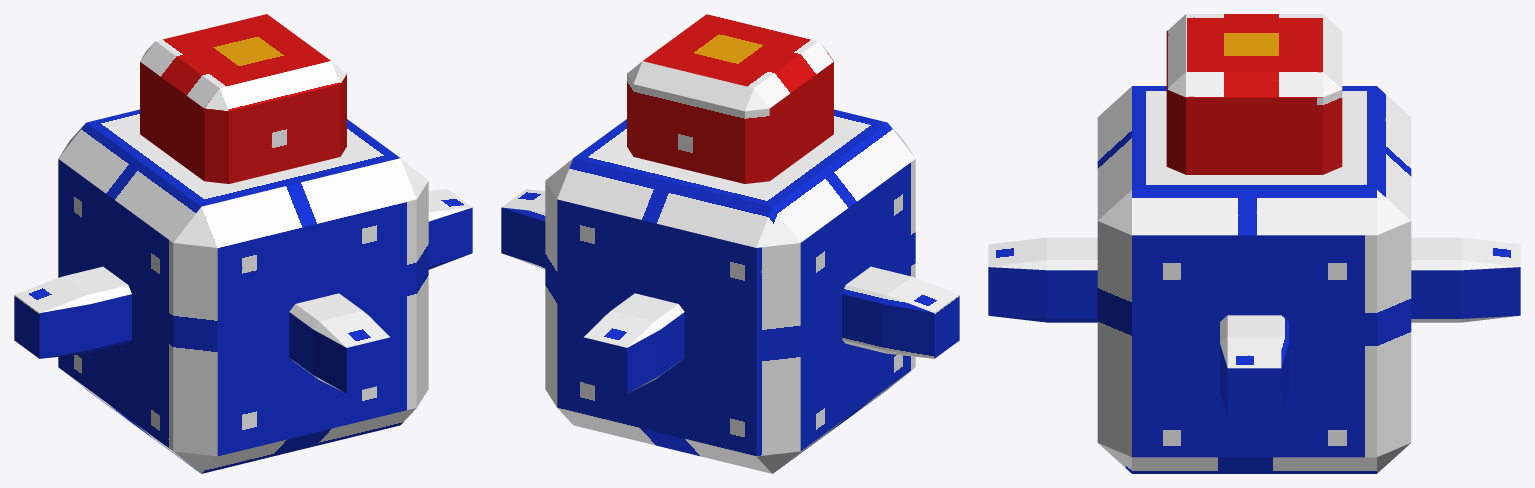
File: pokeball.glb
3 renders of one model, left to right at view 1: azimuth 30°, elevation 25°; view 2: azimuth 150°, elevation 25°; view 3: azimuth 270°, elevation 25°, orthographic. The views are drawn at different scales.
Visible parts, largest first — view 1: Cube.004; view 2: Cube.004; view 3: Cube.004.
Part boxes in pixels (x1,y1,x2,y2): Cube.004: [14, 14, 472, 473]; Cube.004: [501, 14, 959, 473]; Cube.004: [988, 14, 1520, 473].
Size of the model in its own units: 3.39 by 2.67 by 3.39.
1 material, 1 textured.
